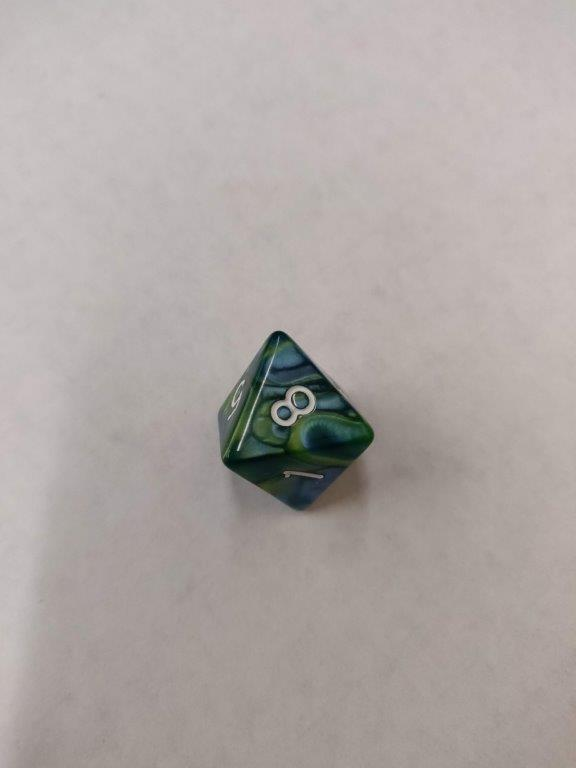d8-8: (214, 332, 375, 516)
